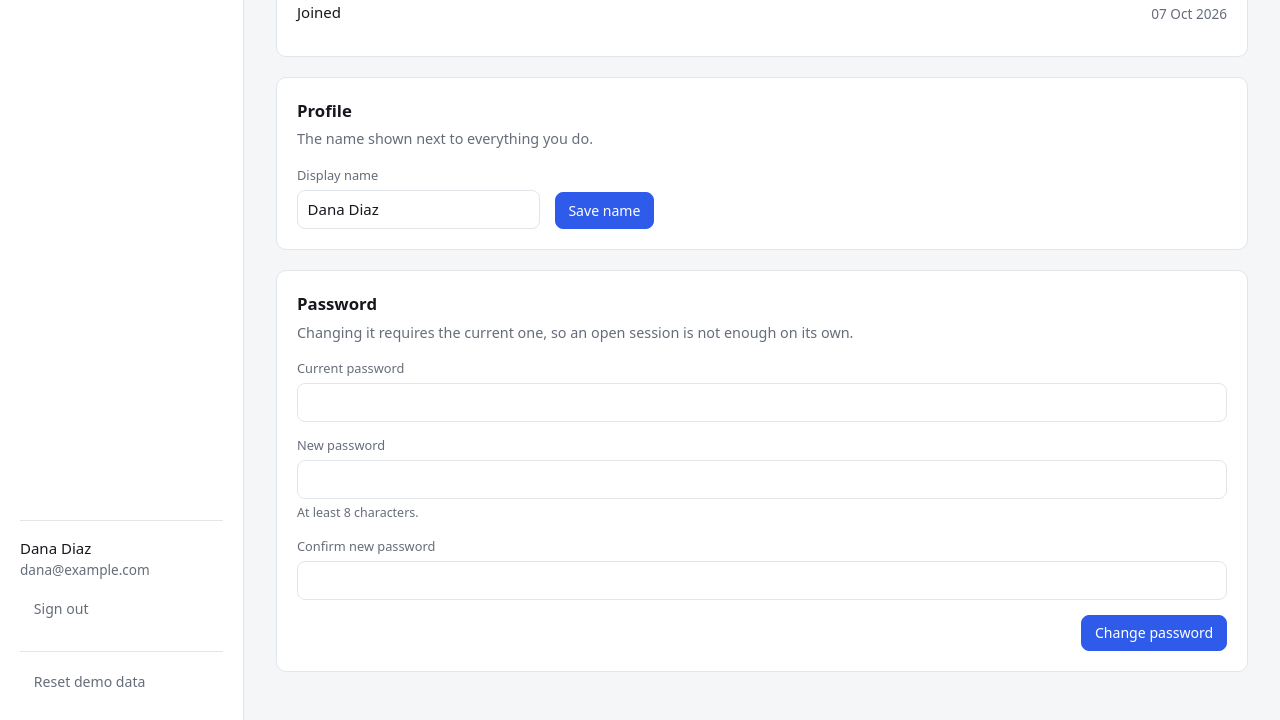
Scenario: the account screen › changes the password and clears the form behind it
(page scrolled)
Type "password123" into the password field labelled "Current password". click: {"x": 762, "y": 403}
box: [297,383,1227,422]
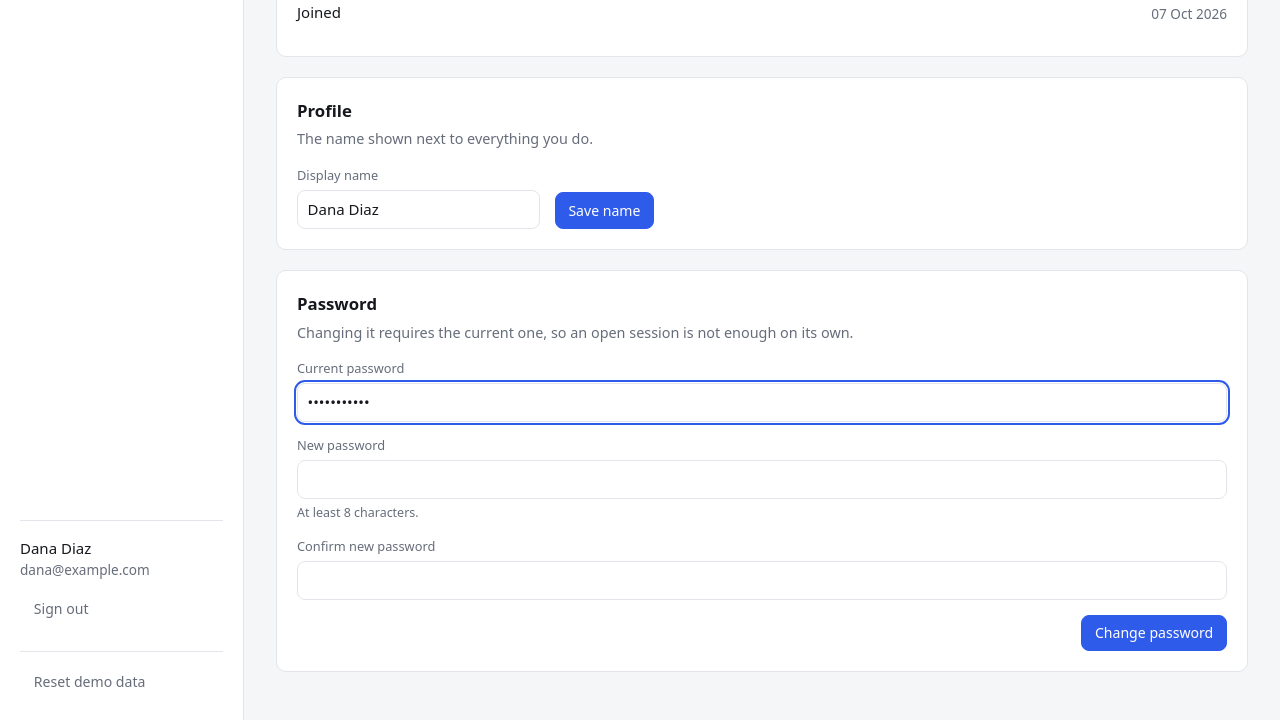
Type "a-longer-secret" into the password field labelled "New password". click: {"x": 762, "y": 480}
box: [297,460,1227,499]
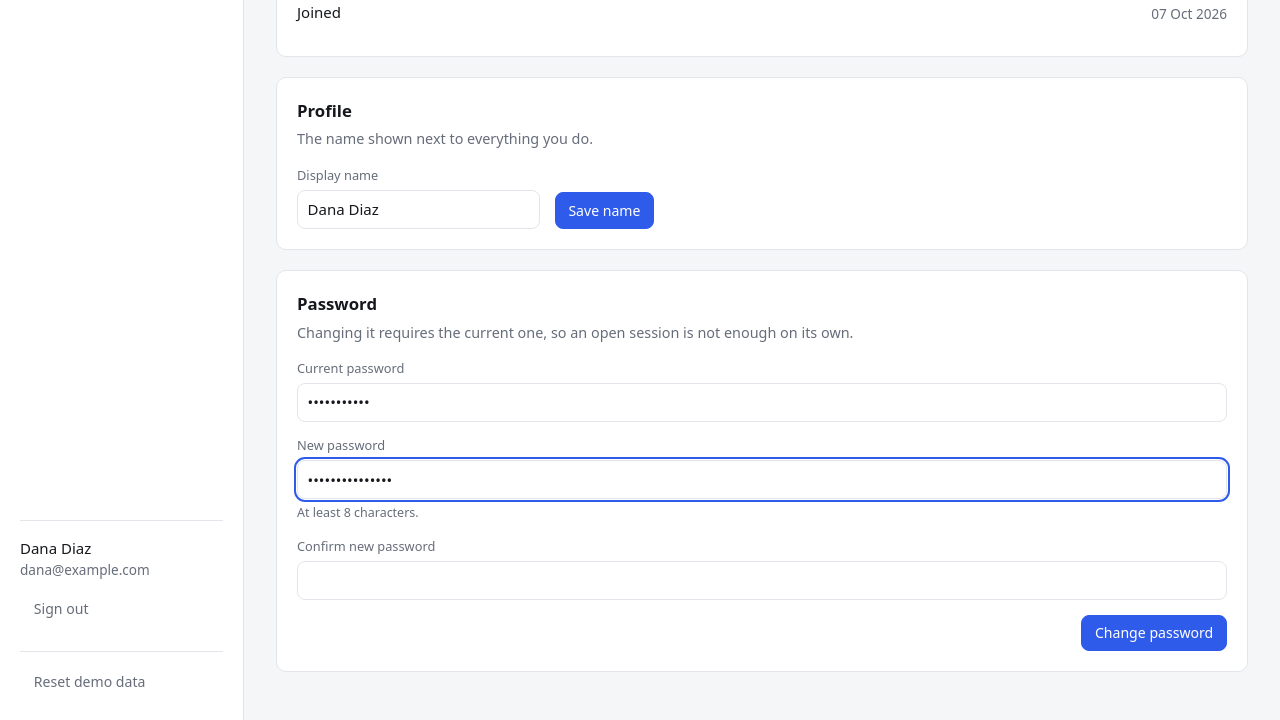
Type "a-longer-secret" into the password field labelled "Confirm new password". click: {"x": 762, "y": 581}
box: [297,561,1227,600]
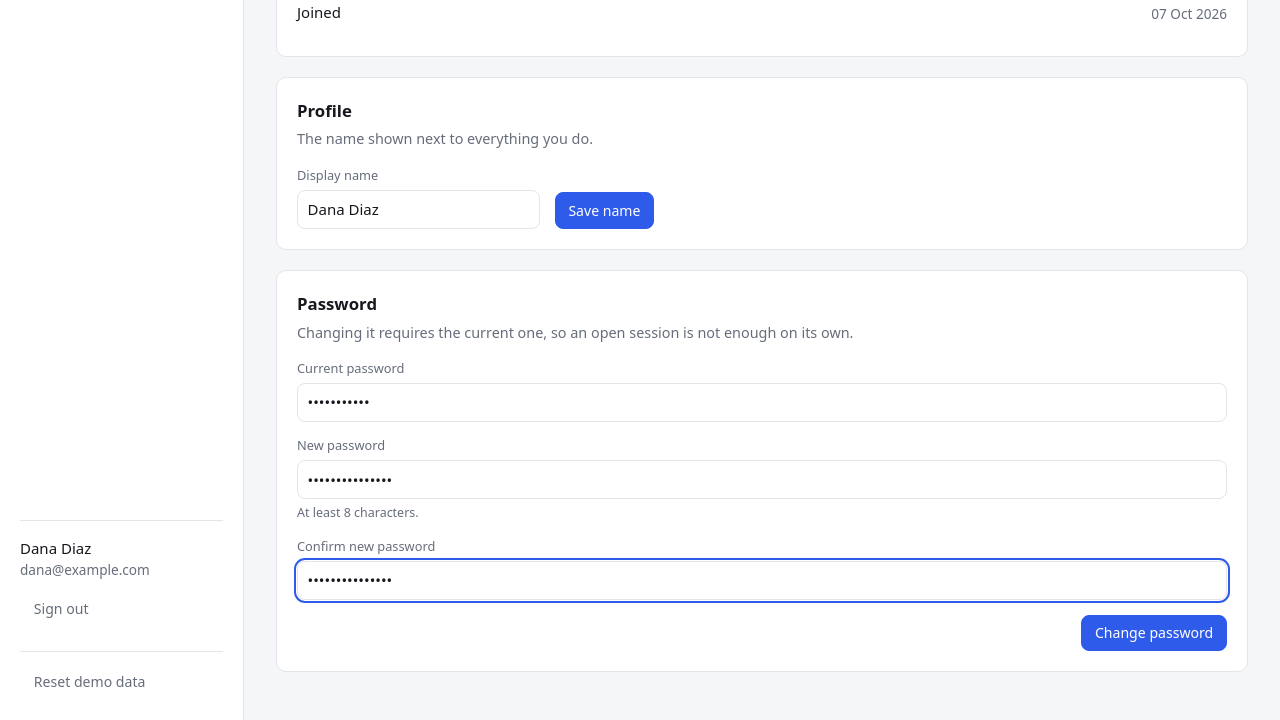
Click the button "Change password". click: {"x": 1154, "y": 633}
box: [1081,614,1227,651]
(page scrolled)
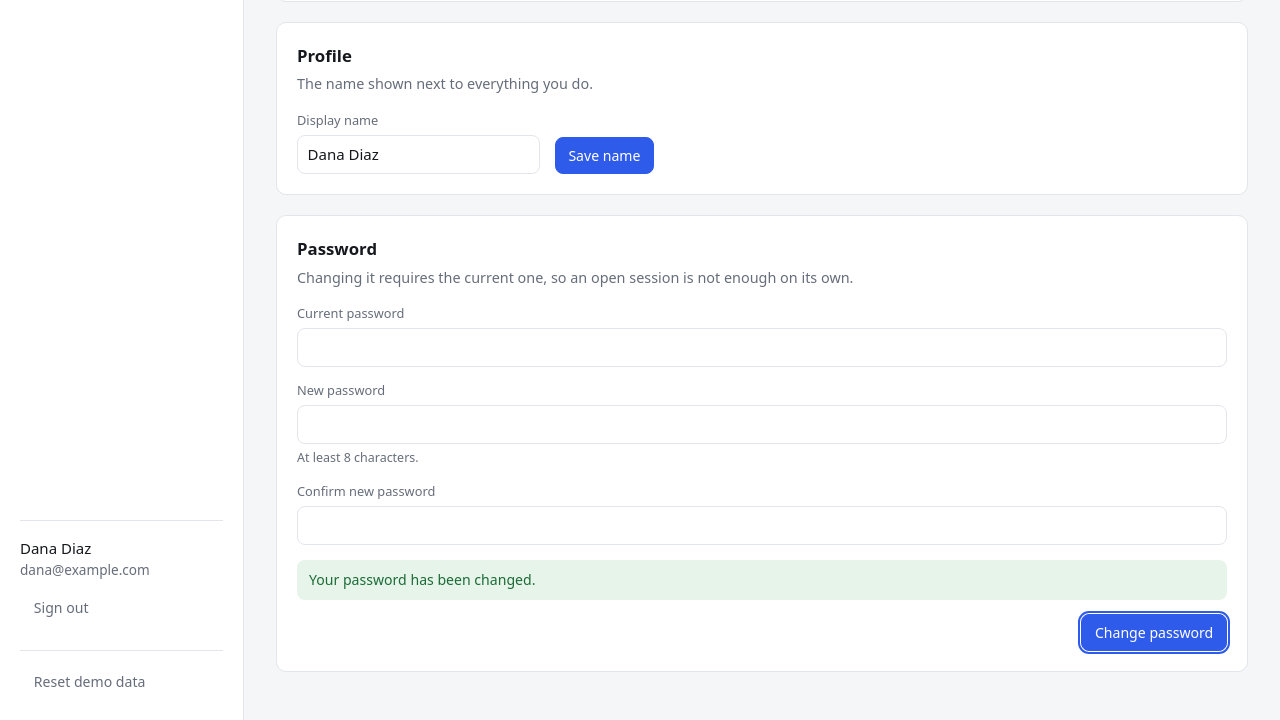
Now the message shows "password has been changed", box [309,570,535,589]
Now the password field labelled "Current password" is empty, box [297,328,1227,367]
Now the password field labelled "New password" is empty, box [297,406,1227,444]
